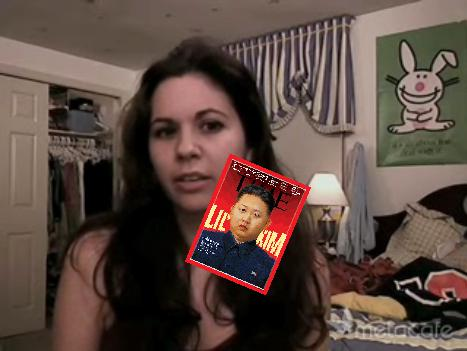times: (183, 153, 319, 295)
